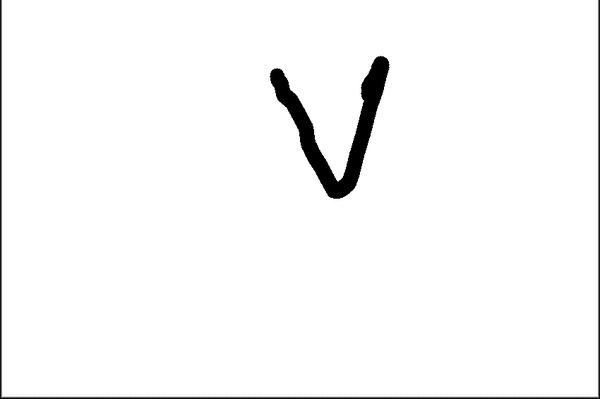V: (255, 42, 398, 217)
